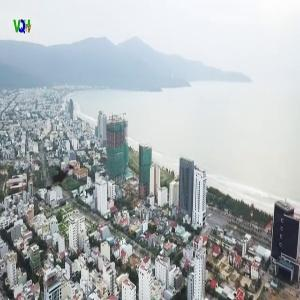drone: (28, 144, 100, 216)
